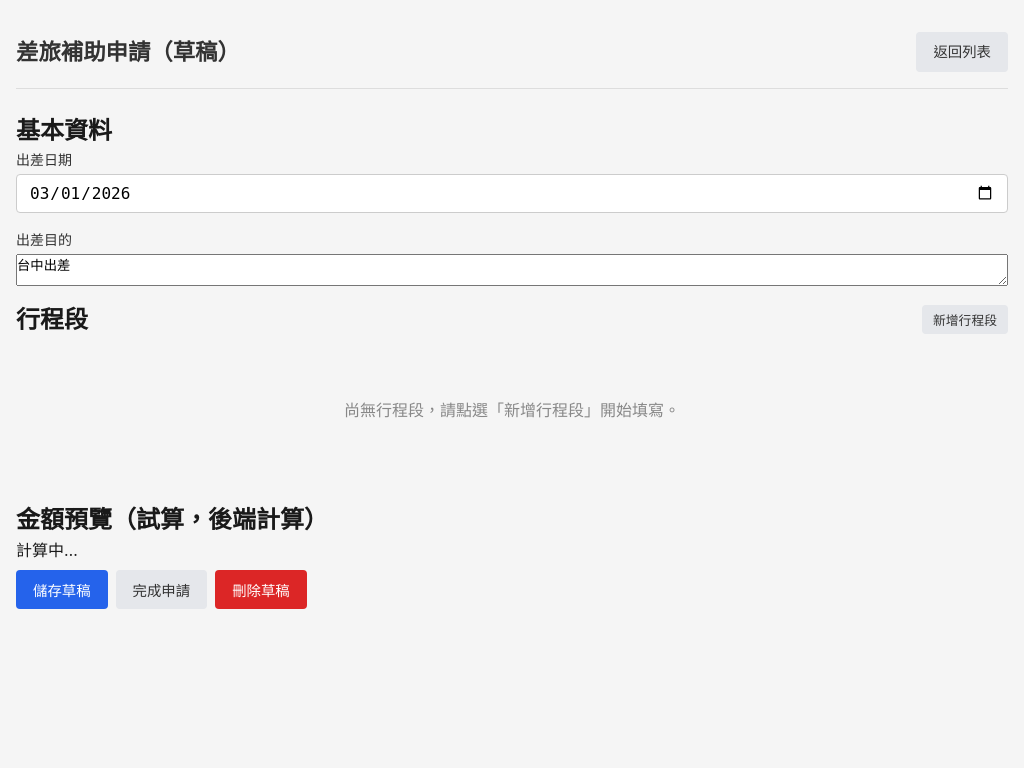
Test: TravelApplicationPage › 完成申請：需二次確認，成功後轉為已完成唯讀檢視
Expected: the date field labelled "出差日期" is shown, [16,174,1008,213]
Click the button "完成申請".
click(161, 589)  # box [116,570,207,609]
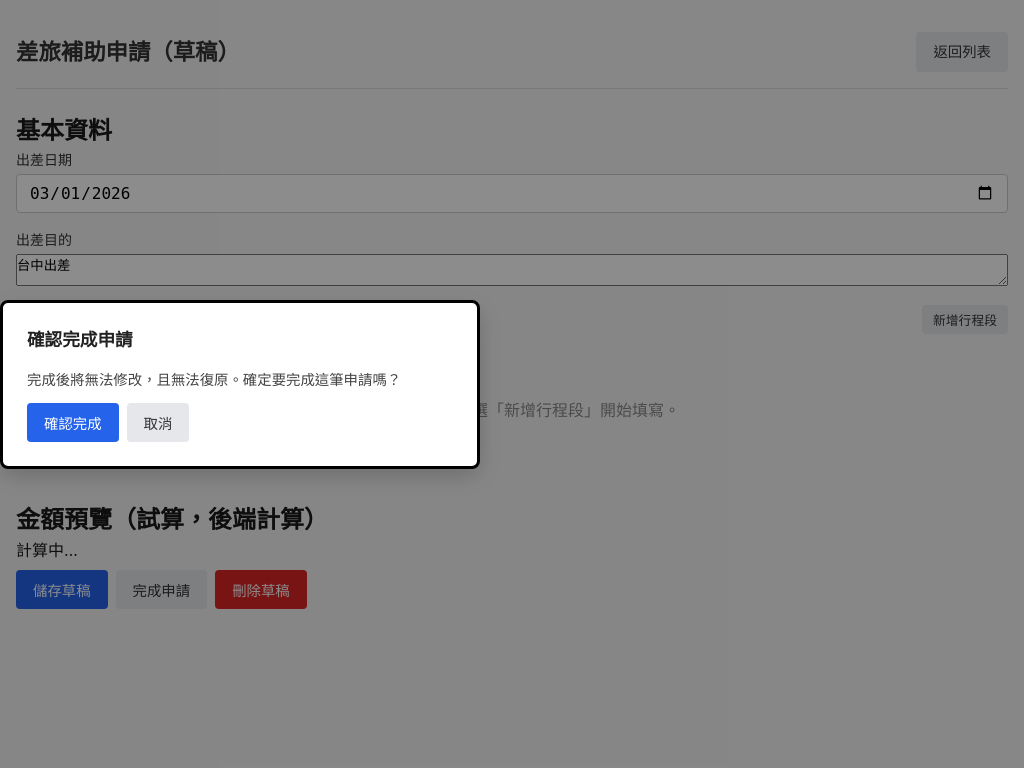
Result: the dialog "確認完成申請" is shown at [0,300,480,468]
Click the button "確認完成".
click(73, 422)  # box [27,402,119,442]
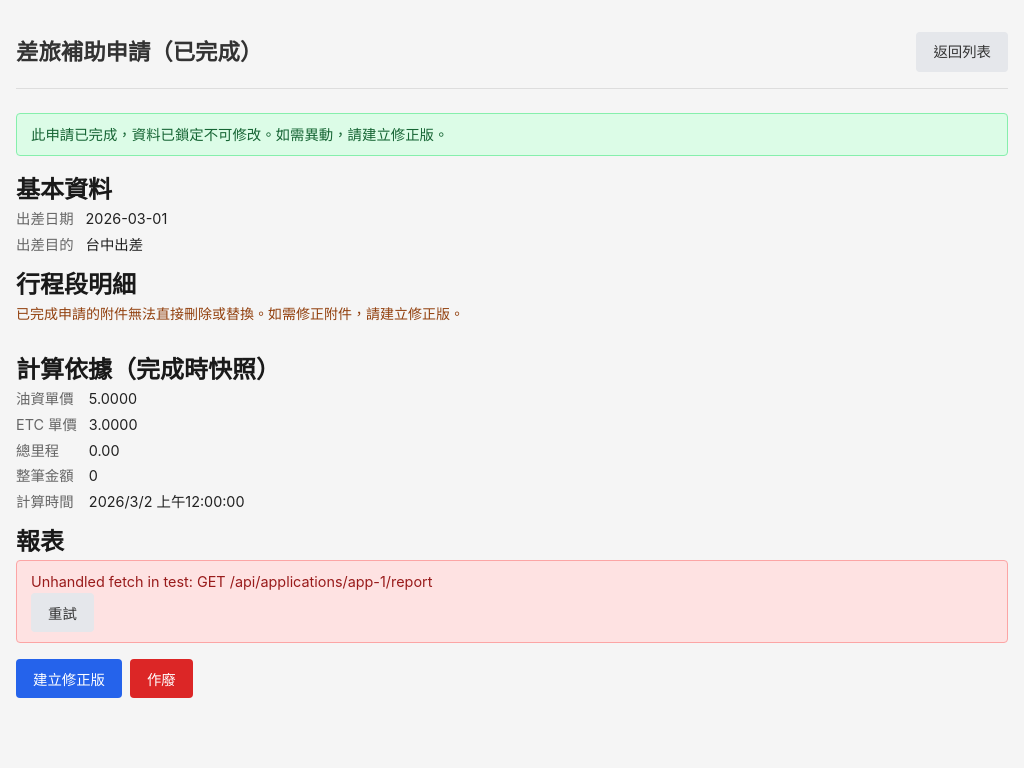
Result: the heading "差旅補助申請（已完成）" is shown at [16,35,262,69]
Result: the text "油資單價" is shown at [16,388,77,410]
Result: the button "儲存草稿" is gone
